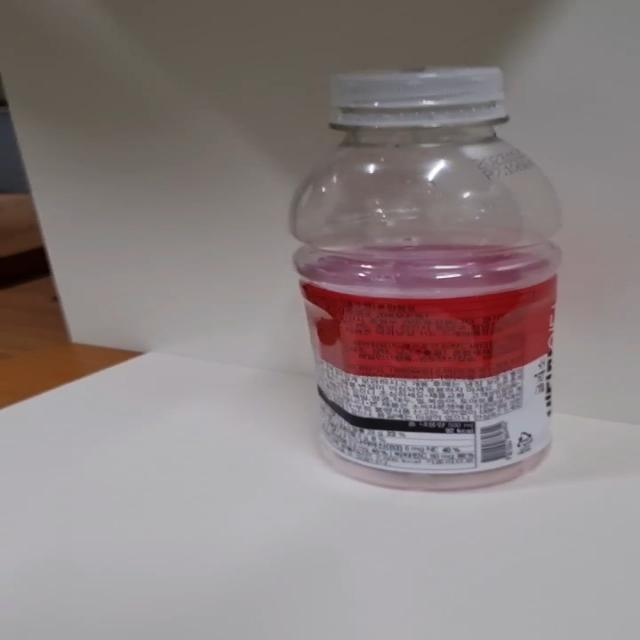Plastic: (287, 67, 563, 495)
